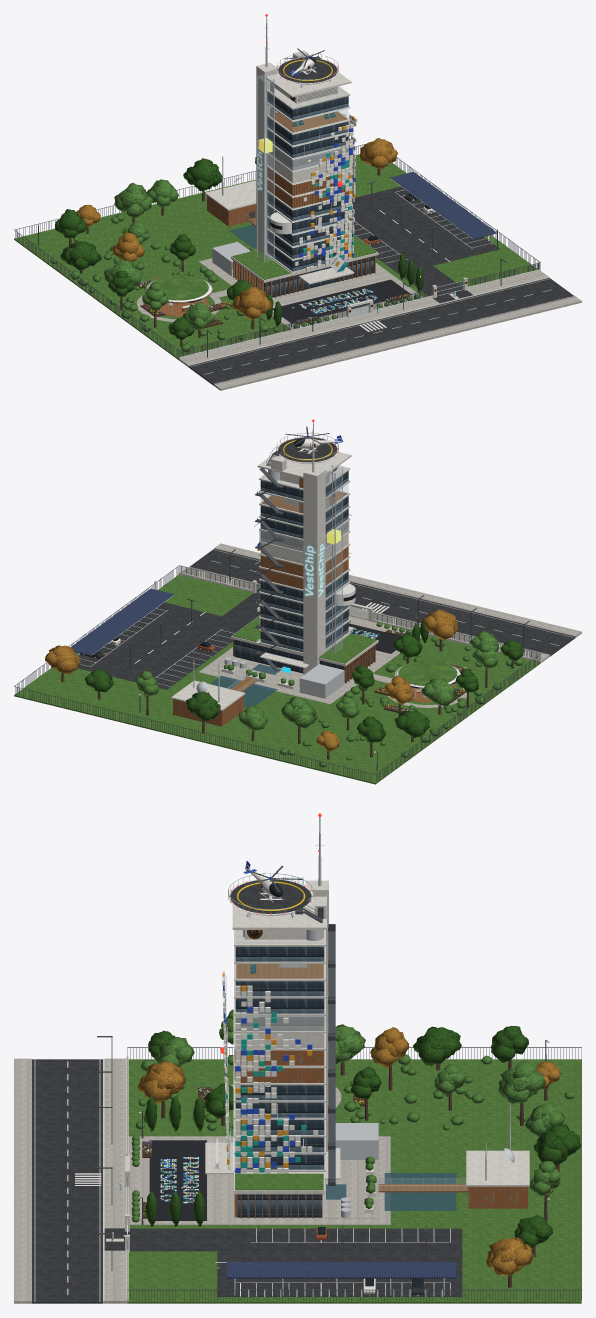
Rendered from torre.glb.
The picture shows the model from 3 angles, top to bottom: view 1: azimuth 30°, elevation 25°; view 2: azimuth 150°, elevation 25°; view 3: azimuth 270°, elevation 25°; orthographic projection. The views are drawn at different scales.
Parts seen in each view (by area): view 1: gramado, rua/asfalto, estacionamento/patio, cerca/grades, rua/calcada-oposta, mosaico_perola, elevador/poco, praca/piso, arbustos, calcada-oeste, cobertura-solar/paineis, praca/franquia-mosaico/base (+33 smaller); view 2: gramado, estacionamento/patio, rua/asfalto, cerca/grades, escada-corta-fogo, elevador/poco, rua/calcada-oposta, arbustos, cobertura-solar/paineis, praca/piso, escada-externa, atrio-de-vidro/pele (+32 smaller); view 3: gramado, rua/asfalto, estacionamento/patio, mosaico_perola, praca/piso, rua/calcada-oposta, cobertura-solar/paineis, calcada-oeste, cerca/grades, praca/franquia-mosaico/base, arbustos, casa-de-antenas/cobertura (+37 smaller).
Boxes of the visible parts, x1,y1,x2,y2 form: gramado: [14, 154, 537, 360]; rua/asfalto: [188, 278, 574, 385]; estacionamento/patio: [352, 186, 500, 273]; cerca/grades: [14, 144, 540, 358]; rua/calcada-oposta: [214, 296, 581, 390]; mosaico_perola: [295, 113, 357, 271]; elevador/poco: [257, 74, 273, 261]; praca/piso: [199, 249, 422, 329]; arbustos: [50, 214, 419, 352]; calcada-oeste: [179, 297, 439, 366]; cobertura-solar/paineis: [390, 171, 496, 238]; praca/franquia-mosaico/base: [272, 279, 411, 323]; gramado: [14, 574, 540, 784]; estacionamento/patio: [77, 602, 248, 689]; rua/asfalto: [189, 549, 575, 656]; cerca/grades: [14, 565, 540, 782]; escada-corta-fogo: [303, 466, 325, 675]; elevador/poco: [326, 465, 341, 652]; rua/calcada-oposta: [214, 543, 581, 637]; arbustos: [280, 622, 523, 767]; cobertura-solar/paineis: [70, 588, 173, 655]; praca/piso: [199, 616, 421, 704]; escada-externa: [255, 467, 283, 671]; atrio-de-vidro/pele: [234, 639, 373, 680]; gramado: [127, 1059, 581, 1303]; rua/asfalto: [32, 1059, 102, 1303]; estacionamento/patio: [217, 1228, 462, 1296]; mosaico_perola: [222, 971, 318, 1173]; praca/piso: [128, 1136, 390, 1224]; rua/calcada-oposta: [14, 1058, 31, 1303]; cobertura-solar/paineis: [226, 1262, 456, 1278]; calcada-oeste: [104, 1058, 126, 1228]; cerca/grades: [127, 1047, 581, 1301]; praca/franquia-mosaico/base: [149, 1140, 206, 1220]; arbustos: [131, 1054, 573, 1222]; casa-de-antenas/cobertura: [466, 1150, 529, 1186].
Bounding box in the file's own units: 96.79 × 68.5 × 95.04.
65 materials, 22 textured.
